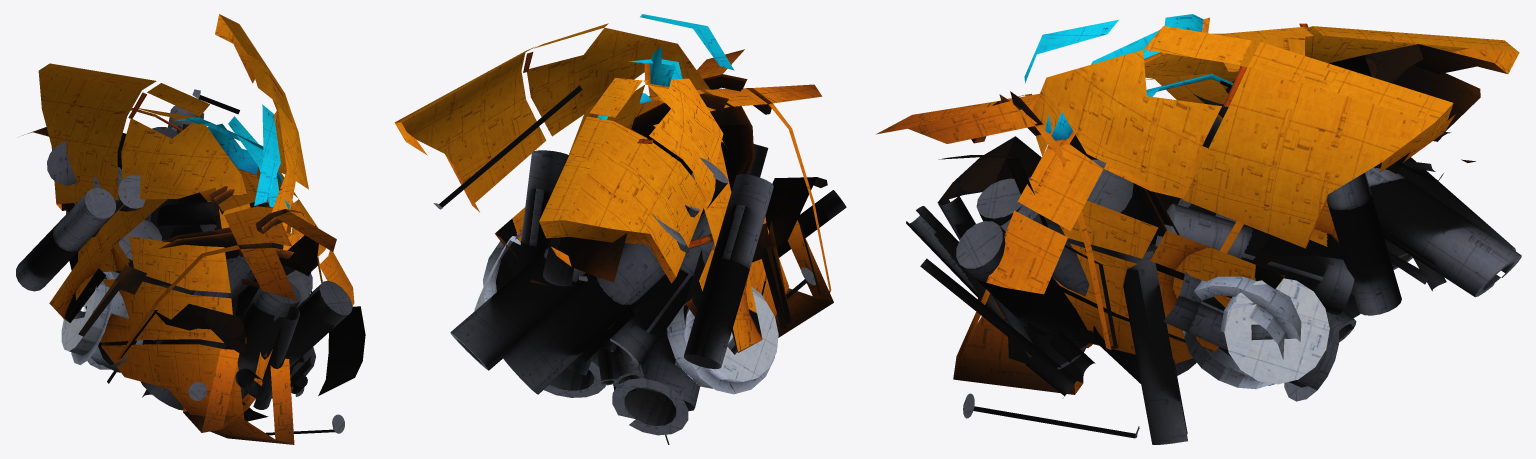
The model's file is MonsterA_die6.obj.
3 renders of one model, left to right at view 1: azimuth 30°, elevation 25°; view 2: azimuth 150°, elevation 25°; view 3: azimuth 270°, elevation 25°, orthographic. The views are drawn at different scales.
Parts seen in each view (by area): view 1: Box001; view 2: Box001; view 3: Box001.
Boxes of the visible parts, left/top/right/bottom form: Box001: left=16, top=14, right=365, bottom=444; Box001: left=394, top=14, right=846, bottom=444; Box001: left=876, top=14, right=1521, bottom=444.
Size of the model in its own units: 156 by 195 by 260.
Materials: 1 (1 with a texture image).
